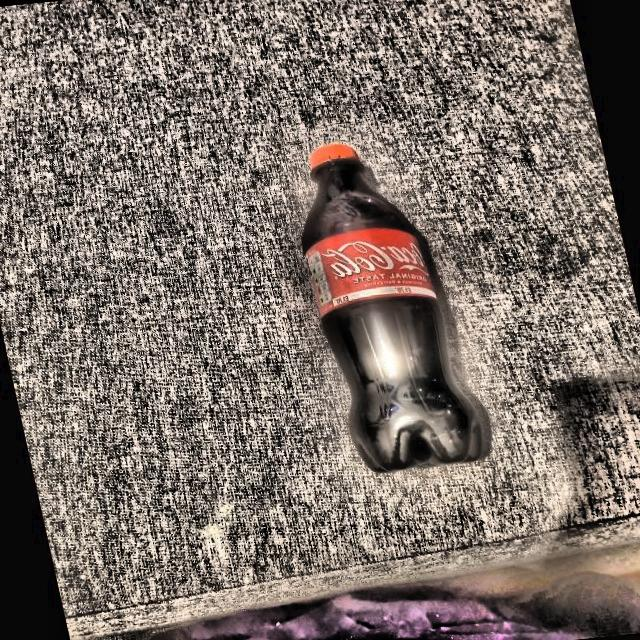coke-bottle: (308, 133, 487, 476)
